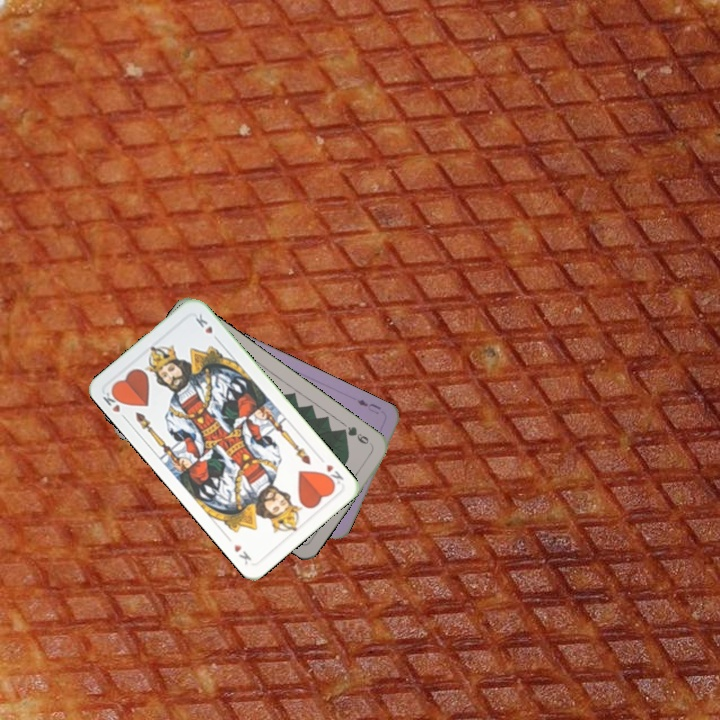EU: (353, 395, 383, 416)
G9: (337, 422, 375, 448)
HK: (98, 385, 130, 423), (319, 460, 346, 489)
